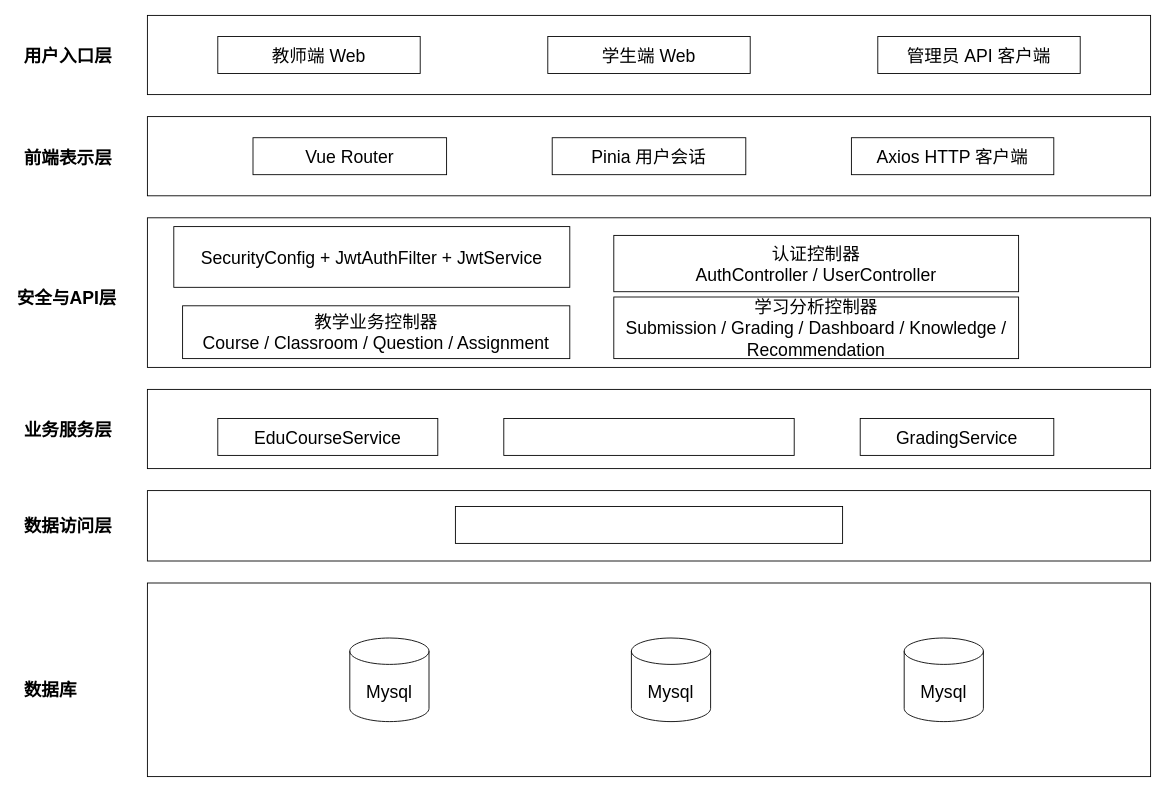
This 1166x792 diagram has some shape labels left out. The centre of each missing label's shape, as x and y in pixels:
"QuestionService + RubricService" goes at point 648,436.
"Spring Data JPA Repository" goes at point 649,524.
